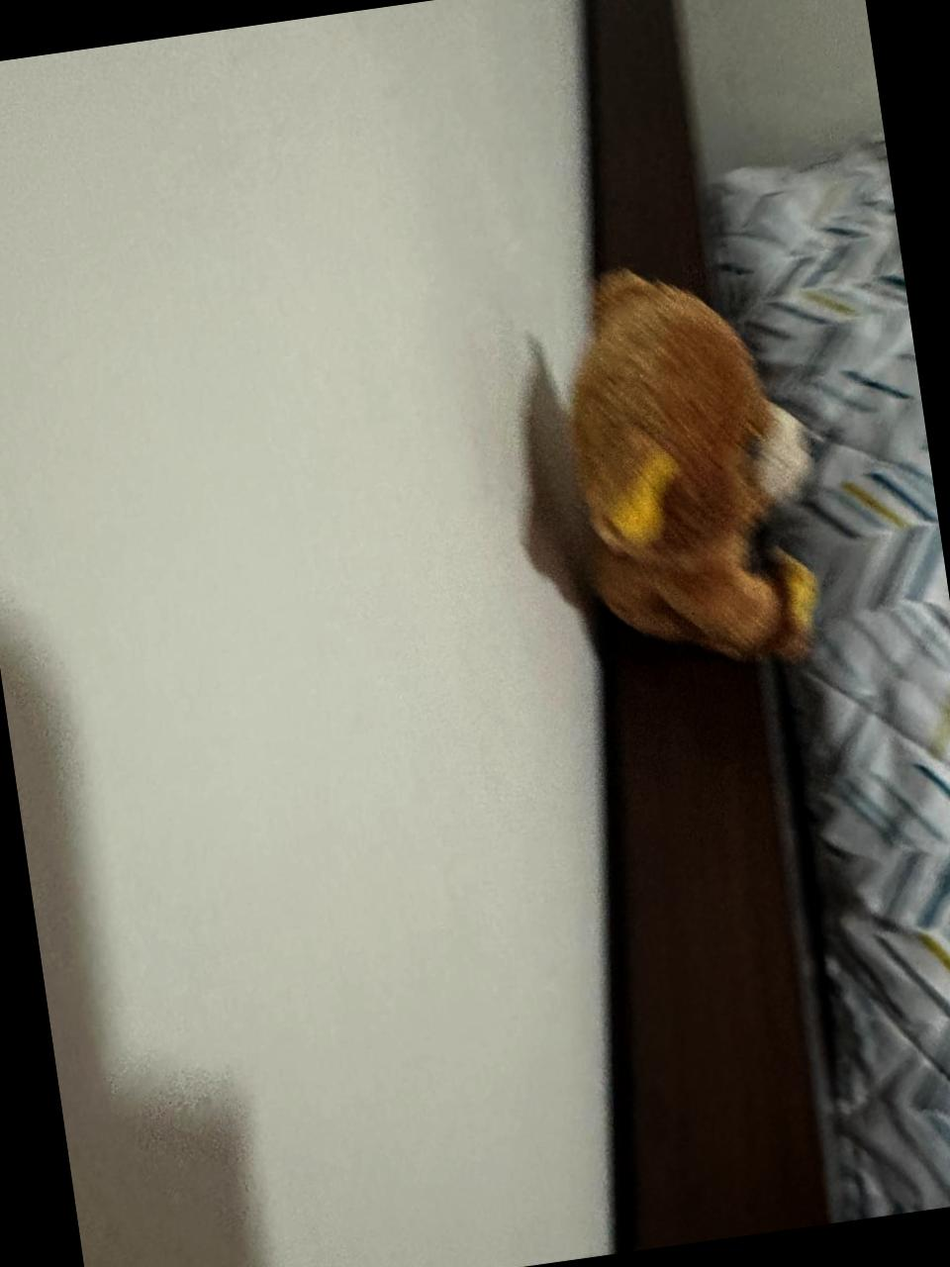peluche_sebastian: (542, 242, 850, 691)
